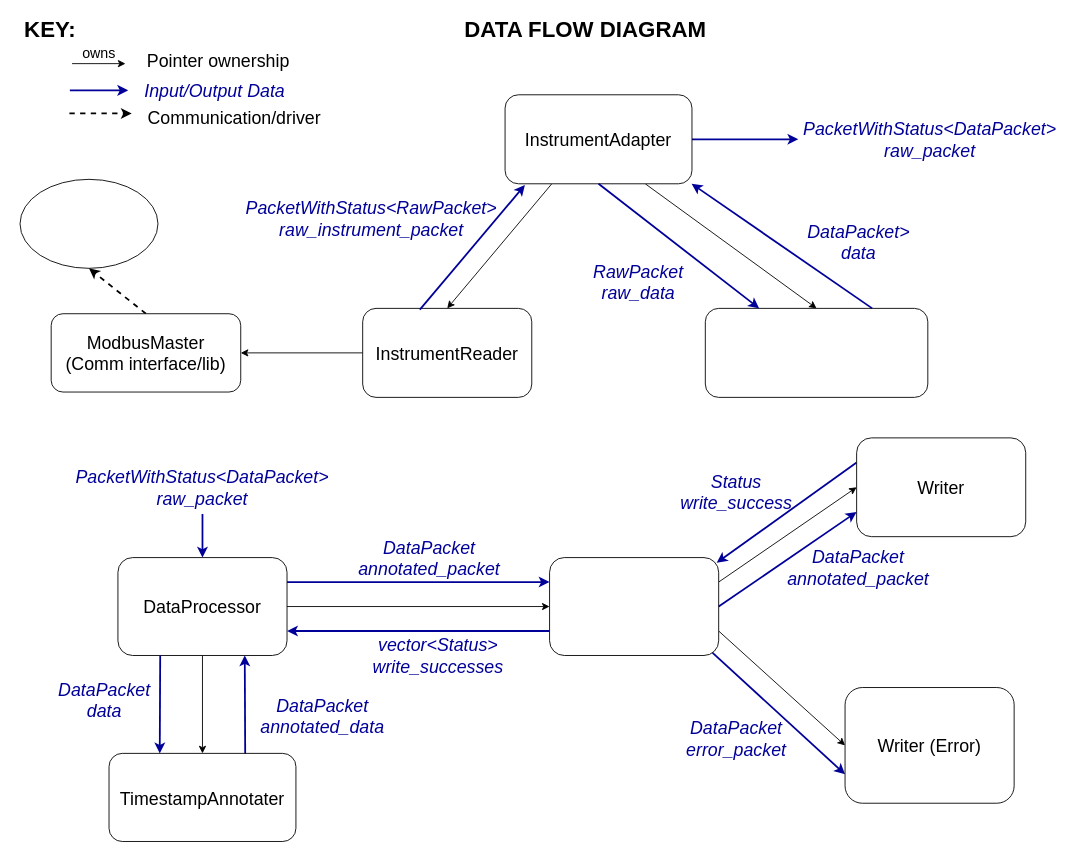
The diagram is 1076 pixels wide and 857 high, and some of its shapes have lost their labels. Each missing label, with the centre of its shape:
Instrument: the point at 88,223
InstrumentDataFormatter: the point at 816,352
Outputter: the point at 634,606
